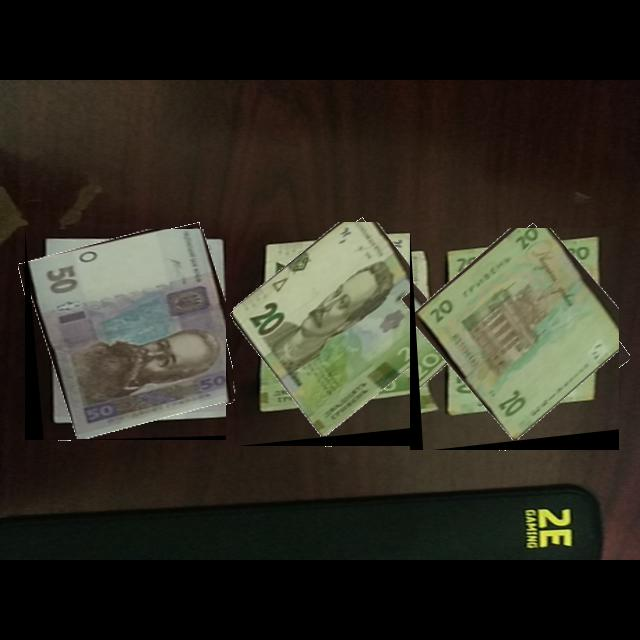20uah: (233, 222, 456, 440), (414, 228, 620, 444)
50uah: (28, 229, 227, 441)
